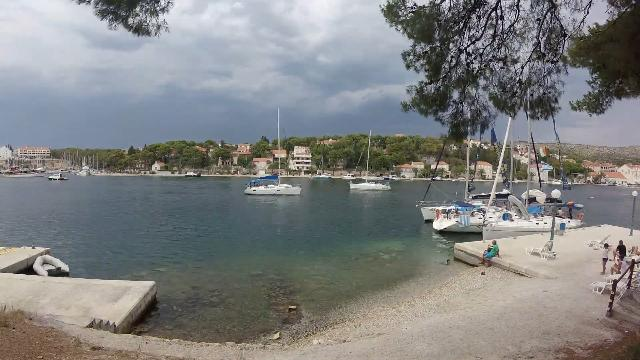Freighter: (0, 156, 48, 180)
Sailboat: (242, 174, 304, 202), (344, 176, 396, 194)
speedboat: (44, 170, 72, 184)
